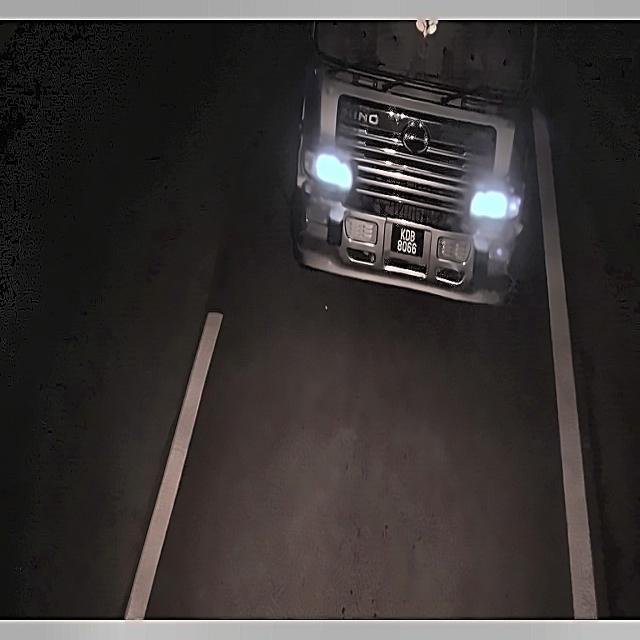car: (389, 221, 426, 264)
